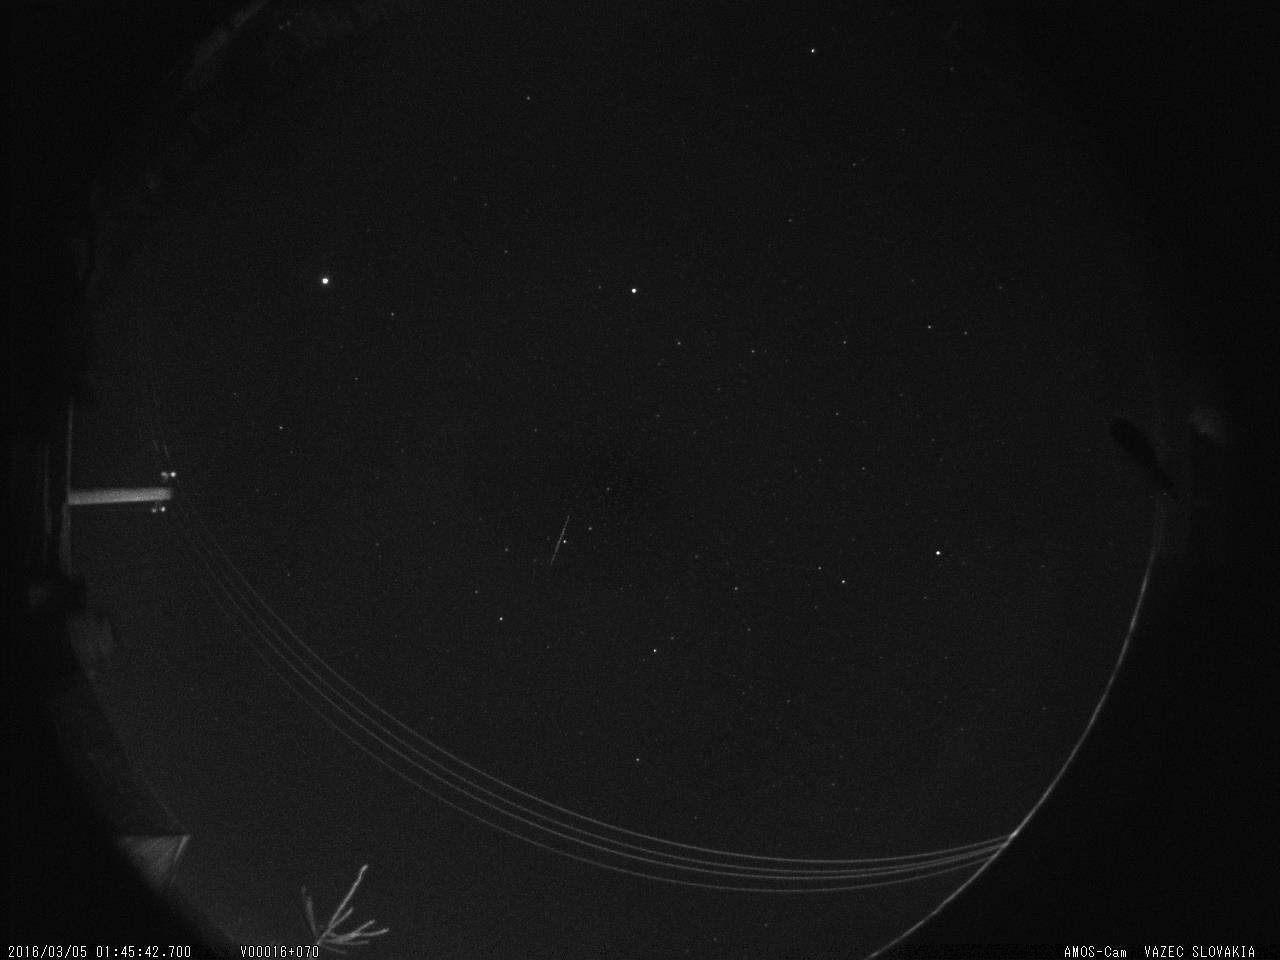Meteor: (539, 504, 580, 581)
